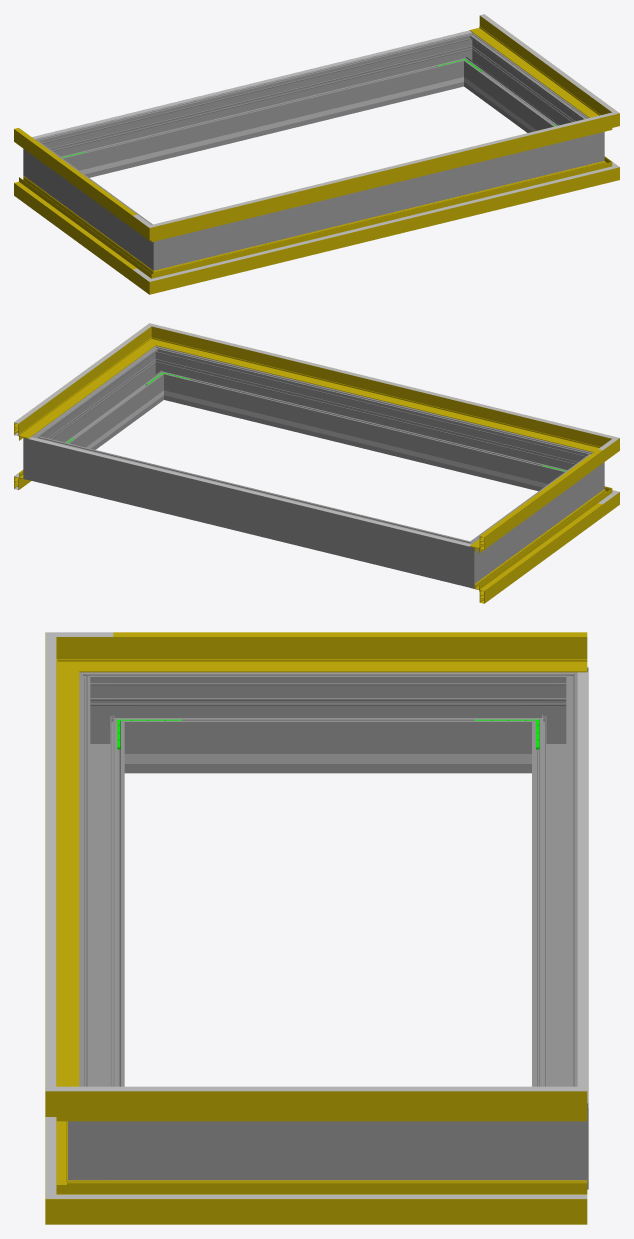
The picture shows the model from 3 angles, top to bottom: view 1: azimuth 30°, elevation 25°; view 2: azimuth 150°, elevation 25°; view 3: azimuth 270°, elevation 25°; orthographic projection. The views are drawn at different scales.
Visible parts, largest first — view 1: 3DGeom-276, 3DGeom-298, 3DGeom-90, 3DGeom-56, 3DGeom-297, 3DGeom-268, 3DGeom-85, 3DGeom-58, 3DGeom-244, 3DGeom-50, 3DGeom-220, 3DGeom-270 (+12 smaller); view 2: 3DGeom-298, 3DGeom-276, 3DGeom-56, 3DGeom-297, 3DGeom-85, 3DGeom-268, 3DGeom-58, 3DGeom-239, 3DGeom-278, 3DGeom-50, 3DGeom-220, 3DGeom-284 (+9 smaller); view 3: 3DGeom-268, 3DGeom-297, 3DGeom-97, 3DGeom-50, 3DGeom-276, 3DGeom-298, 3DGeom-58, 3DGeom-56, 3DGeom-220, 3DGeom-66, 3DGeom-284, 3DGeom-278 (+9 smaller).
Boxes of the visible parts, x1,y1,x2,y2 form: 3DGeom-276: (55, 38, 458, 177); 3DGeom-298: (183, 139, 574, 263); 3DGeom-90: (173, 165, 590, 287); 3DGeom-56: (176, 120, 590, 236); 3DGeom-297: (467, 43, 582, 132); 3DGeom-268: (40, 149, 145, 257); 3DGeom-85: (14, 176, 141, 281); 3DGeom-58: (469, 14, 597, 116); 3DGeom-244: (90, 84, 435, 172); 3DGeom-50: (14, 129, 132, 228); 3DGeom-220: (32, 30, 471, 138); 3DGeom-270: (136, 219, 182, 270); 3DGeom-298: (169, 352, 572, 491); 3DGeom-276: (53, 441, 450, 581); 3DGeom-56: (170, 332, 587, 449); 3DGeom-297: (45, 356, 161, 449); 3DGeom-85: (472, 497, 602, 603); 3DGeom-268: (482, 462, 587, 571); 3DGeom-58: (14, 337, 147, 440); 3DGeom-239: (192, 397, 537, 486); 3DGeom-278: (445, 533, 491, 588); 3DGeom-50: (470, 450, 602, 553); 3DGeom-220: (28, 437, 471, 546); 3DGeom-284: (23, 426, 58, 485); 3DGeom-268: (136, 672, 520, 773); 3DGeom-297: (136, 1121, 520, 1180); 3DGeom-97: (113, 1180, 587, 1224); 3DGeom-50: (113, 637, 587, 672); 3DGeom-276: (532, 696, 588, 1086); 3DGeom-298: (79, 696, 124, 1086); 3DGeom-58: (113, 1091, 587, 1121); 3DGeom-56: (45, 661, 79, 1086); 3DGeom-220: (577, 671, 588, 1103); 3DGeom-66: (45, 661, 56, 1062); 3DGeom-284: (520, 1078, 588, 1189); 3DGeom-278: (520, 667, 588, 773).
Size of the model in its own units: 2.44 by 0.3303 by 1.22.
